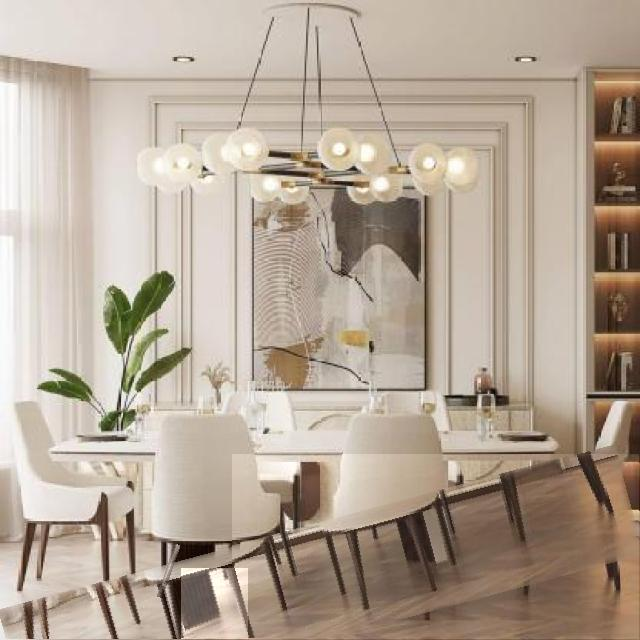floor: (233, 455, 639, 639), (181, 568, 248, 639), (104, 579, 172, 640), (46, 594, 110, 640), (158, 545, 180, 598), (1, 615, 25, 640), (31, 614, 42, 640)
